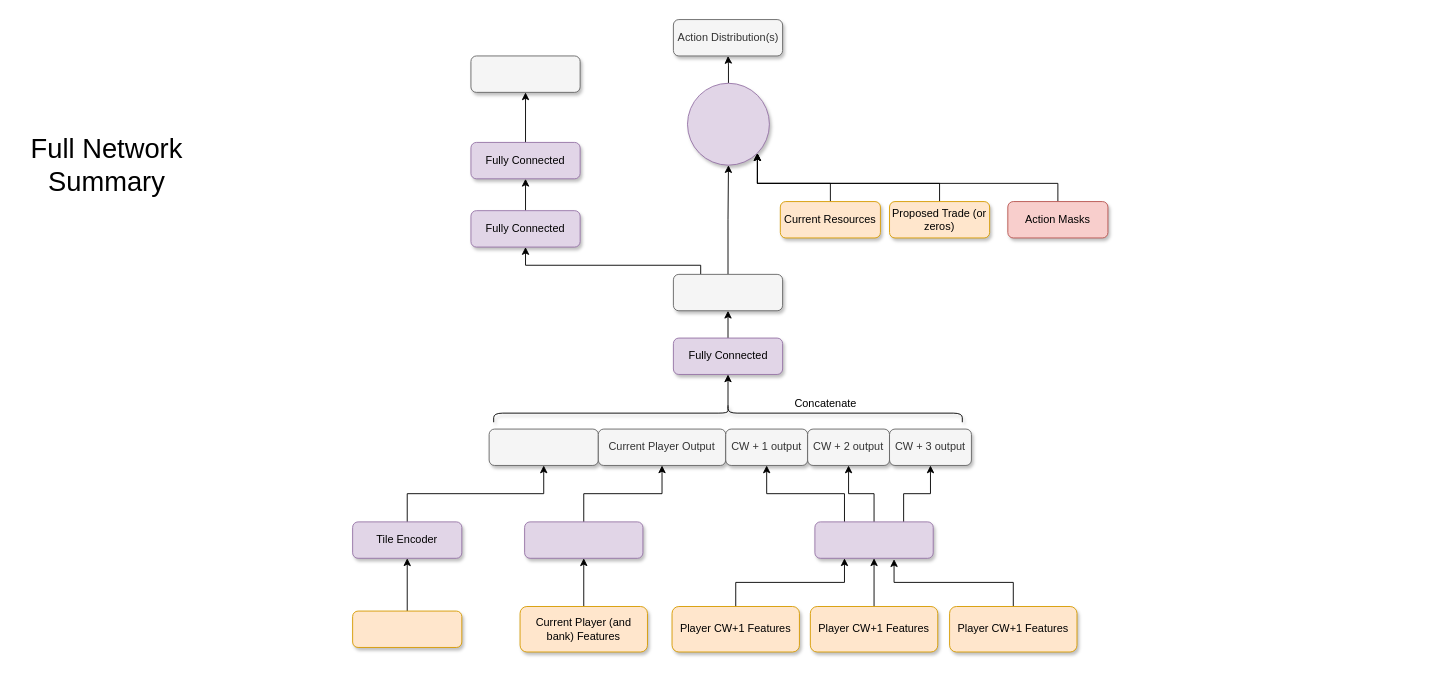
Image size: 1441x674. Some labels were removed from this diagram. The shapes that lost their labels are listed below. From the top down, each one's centre as x and y in pixels, then its label:
the point at 526,75: Value Estimate
the point at 729,125: Multi-action heads module
the point at 728,293: Observation Module Output
the point at 544,448: Tile Output
the point at 584,541: Current Player Module
the point at 874,541: Other Player Module
the point at 407,630: Tile Features
